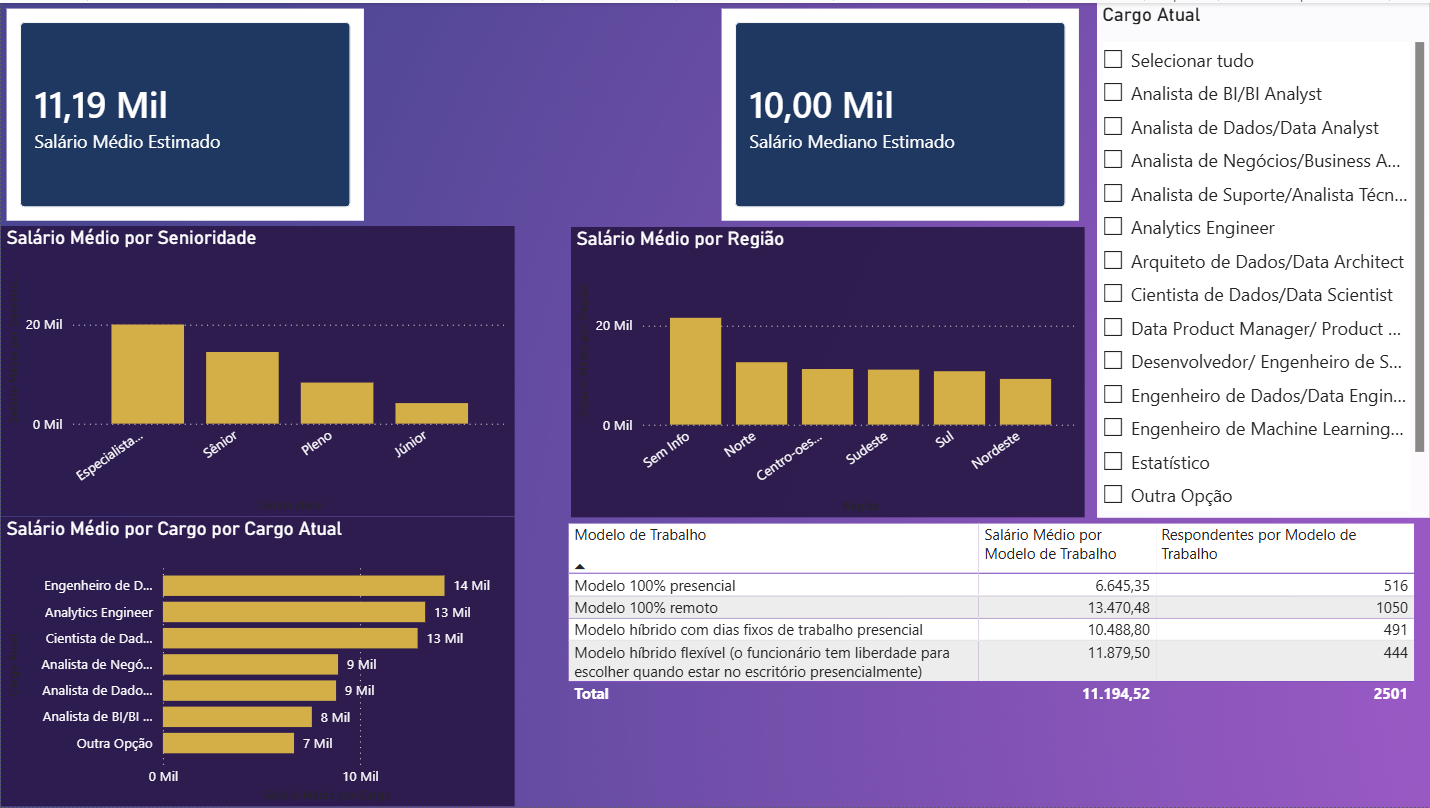

Layout of this report page (visuals, bound fields, positions):
{"tool":"powerbi","page":{"name":"Salários","canvas":[1280,720],"ordinal":1},"visuals":[{"type":"cardVisual","fields":{"Data":["_Medidas.Salário Médio Estimado"]},"box":[0,0,330,200],"z":1000},{"type":"cardVisual","fields":{"Data":["_Medidas.Salário Mediano Estimado"]},"box":[640.3,0,330,200],"z":2000},{"type":"columnChart","title":"Salário Médio por Senioridade","fields":{"Category":["Final Dataset - State of Data 2025-2026 - Kaggle.Senioridade"],"Y":["_Medidas.Salário Médio por Senioridade"]},"box":[0,200,460,260],"z":3000},{"type":"columnChart","title":"Salário Médio por Região","fields":{"Category":["Final Dataset - State of Data 2025-2026 - Kaggle.Região"],"Y":["_Medidas.Salário Médio por Região"]},"box":[510.9,200.2,460,260],"z":4000},{"type":"barChart","fields":{"Y":["_Medidas.Salário Médio por Cargo"],"Category":["Final Dataset - State of Data 2025-2026 - Kaggle.Cargo Atual"]},"box":[0,460.5,460.1,259.5],"z":5000},{"type":"listSlicer","fields":{"Values":["Final Dataset - State of Data 2025-2026 - Kaggle.Cargo Atual"]},"box":[981.9,0,298.1,460.8],"z":6000},{"type":"tableEx","title":"Ferramentas mais usadas","fields":{"Values":["Final Dataset - State of Data 2025-2026 - Kaggle.Modelo de Trabalho","_Medidas.Salário Médio por Modelo de Trabalho","_Medidas.Respondentes por Modelo de Trabalho"]},"box":[502.3,460.9,777.7,172.7],"z":7000}]}

Visuals, with their boxes in screenshot pixels (x1, y1, x2, y2), scaled from the page's 1280x720 canvas onto the 1430x808 screenshot:
cardVisual - _Medidas.Salário Médio Estimado: (0, 0, 369, 224)
cardVisual - _Medidas.Salário Mediano Estimado: (715, 0, 1084, 224)
"Salário Médio por Senioridade" columnChart: (0, 224, 514, 516)
"Salário Médio por Região" columnChart: (571, 225, 1085, 516)
barChart - _Medidas.Salário Médio por Cargo x Final Dataset - State of Data 2025-2026 - Kaggle.Cargo Atual: (0, 517, 514, 807)
listSlicer - Final Dataset - State of Data 2025-2026 - Kaggle.Cargo Atual: (1097, 0, 1429, 517)
"Ferramentas mais usadas" tableEx: (561, 517, 1429, 711)
